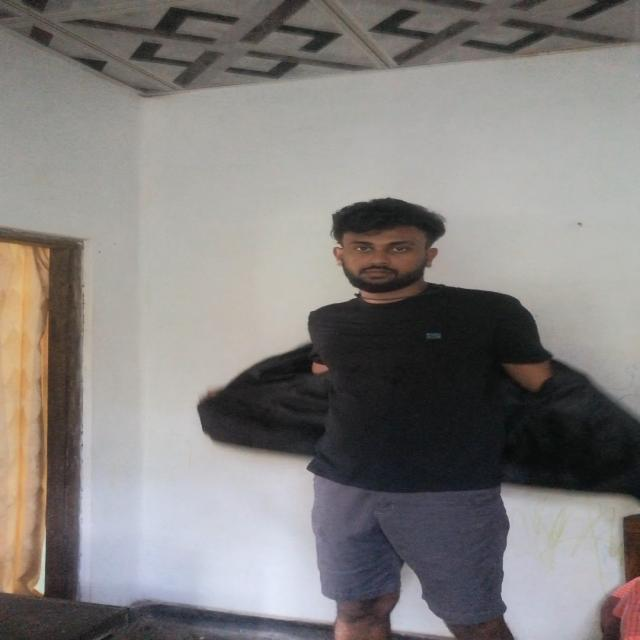Jacket_Wearer: (206, 294, 640, 534)
Person: (250, 186, 557, 640)
